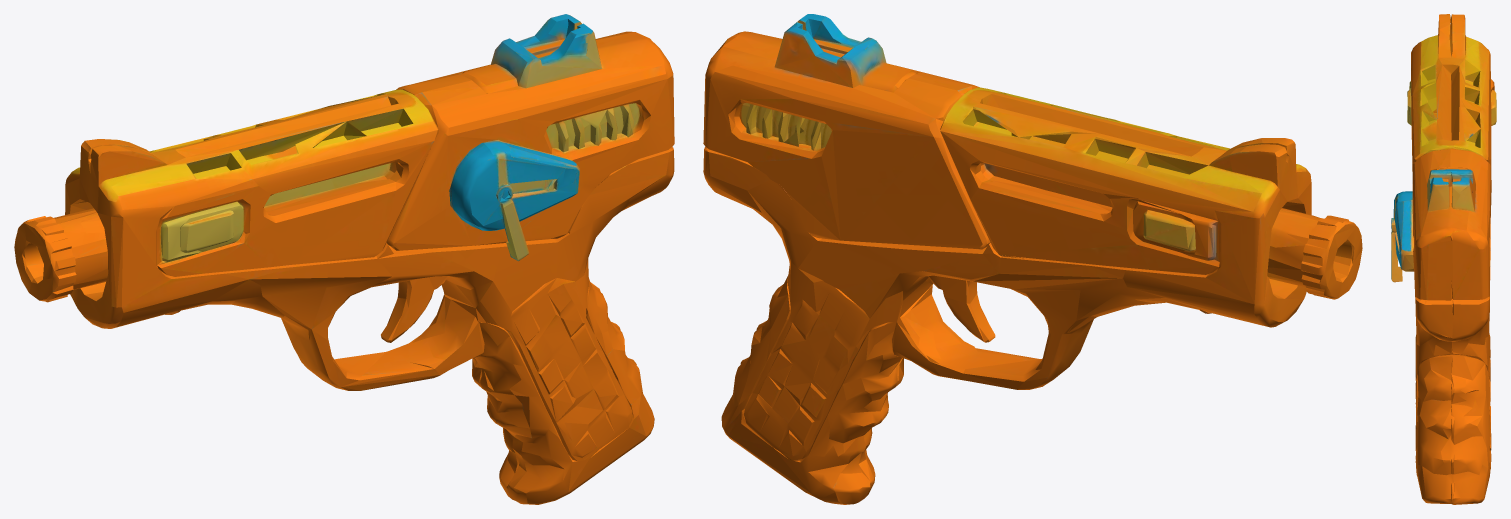
Rendered from toy_pistol.glb.
3 views of the same model, side by side, from view 1: azimuth 30°, elevation 25°; view 2: azimuth 150°, elevation 25°; view 3: azimuth 270°, elevation 25° (orthographic). The views are drawn at different scales.
Size of the model in its own units: 1.9 by 1.35 by 0.3831.
1 material, 1 textured.
